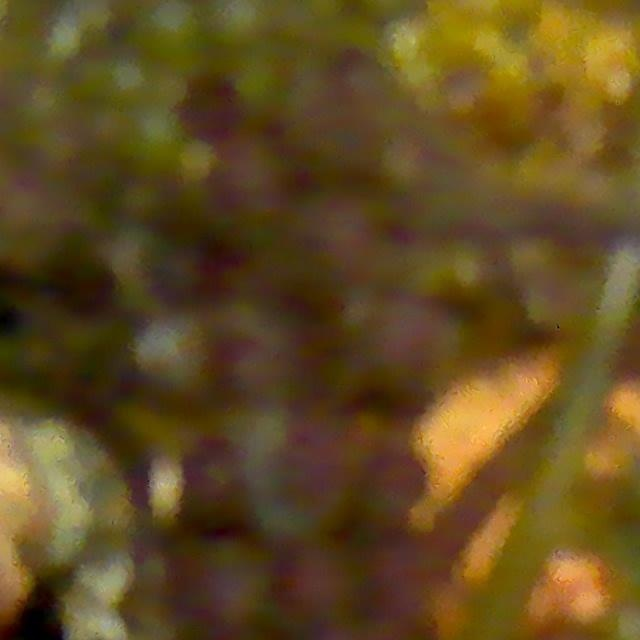SeaGrape: (131, 308, 216, 399), (223, 401, 298, 474), (223, 138, 290, 210), (133, 0, 203, 60), (125, 105, 187, 169), (206, 0, 279, 50), (231, 52, 287, 114), (155, 242, 208, 296), (214, 295, 267, 347), (379, 455, 429, 508), (173, 137, 221, 185)
